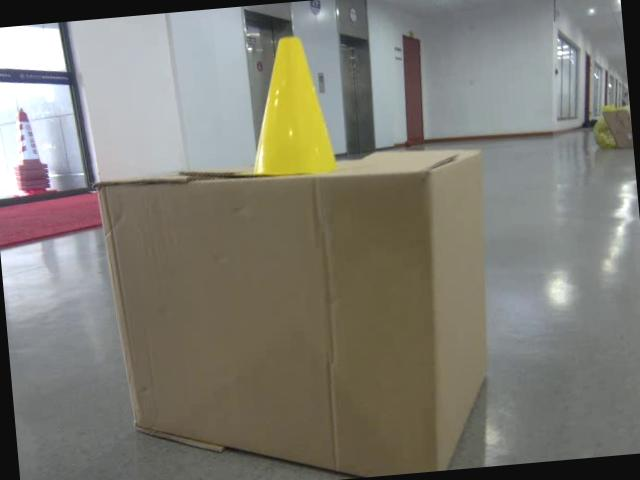yellow_barrel: (228, 31, 353, 180)
